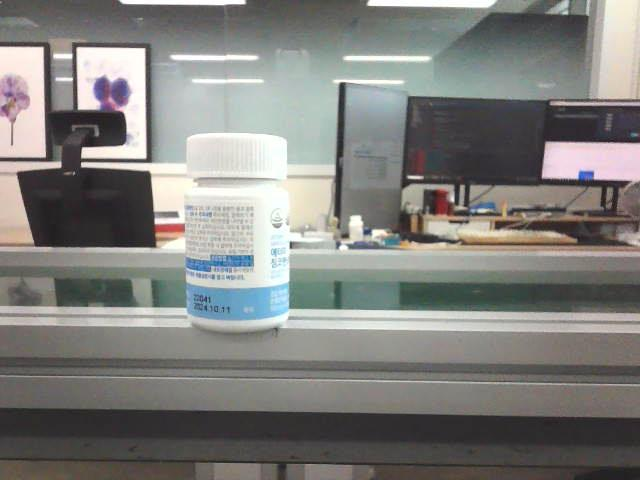labeled: (180, 127, 295, 334)
